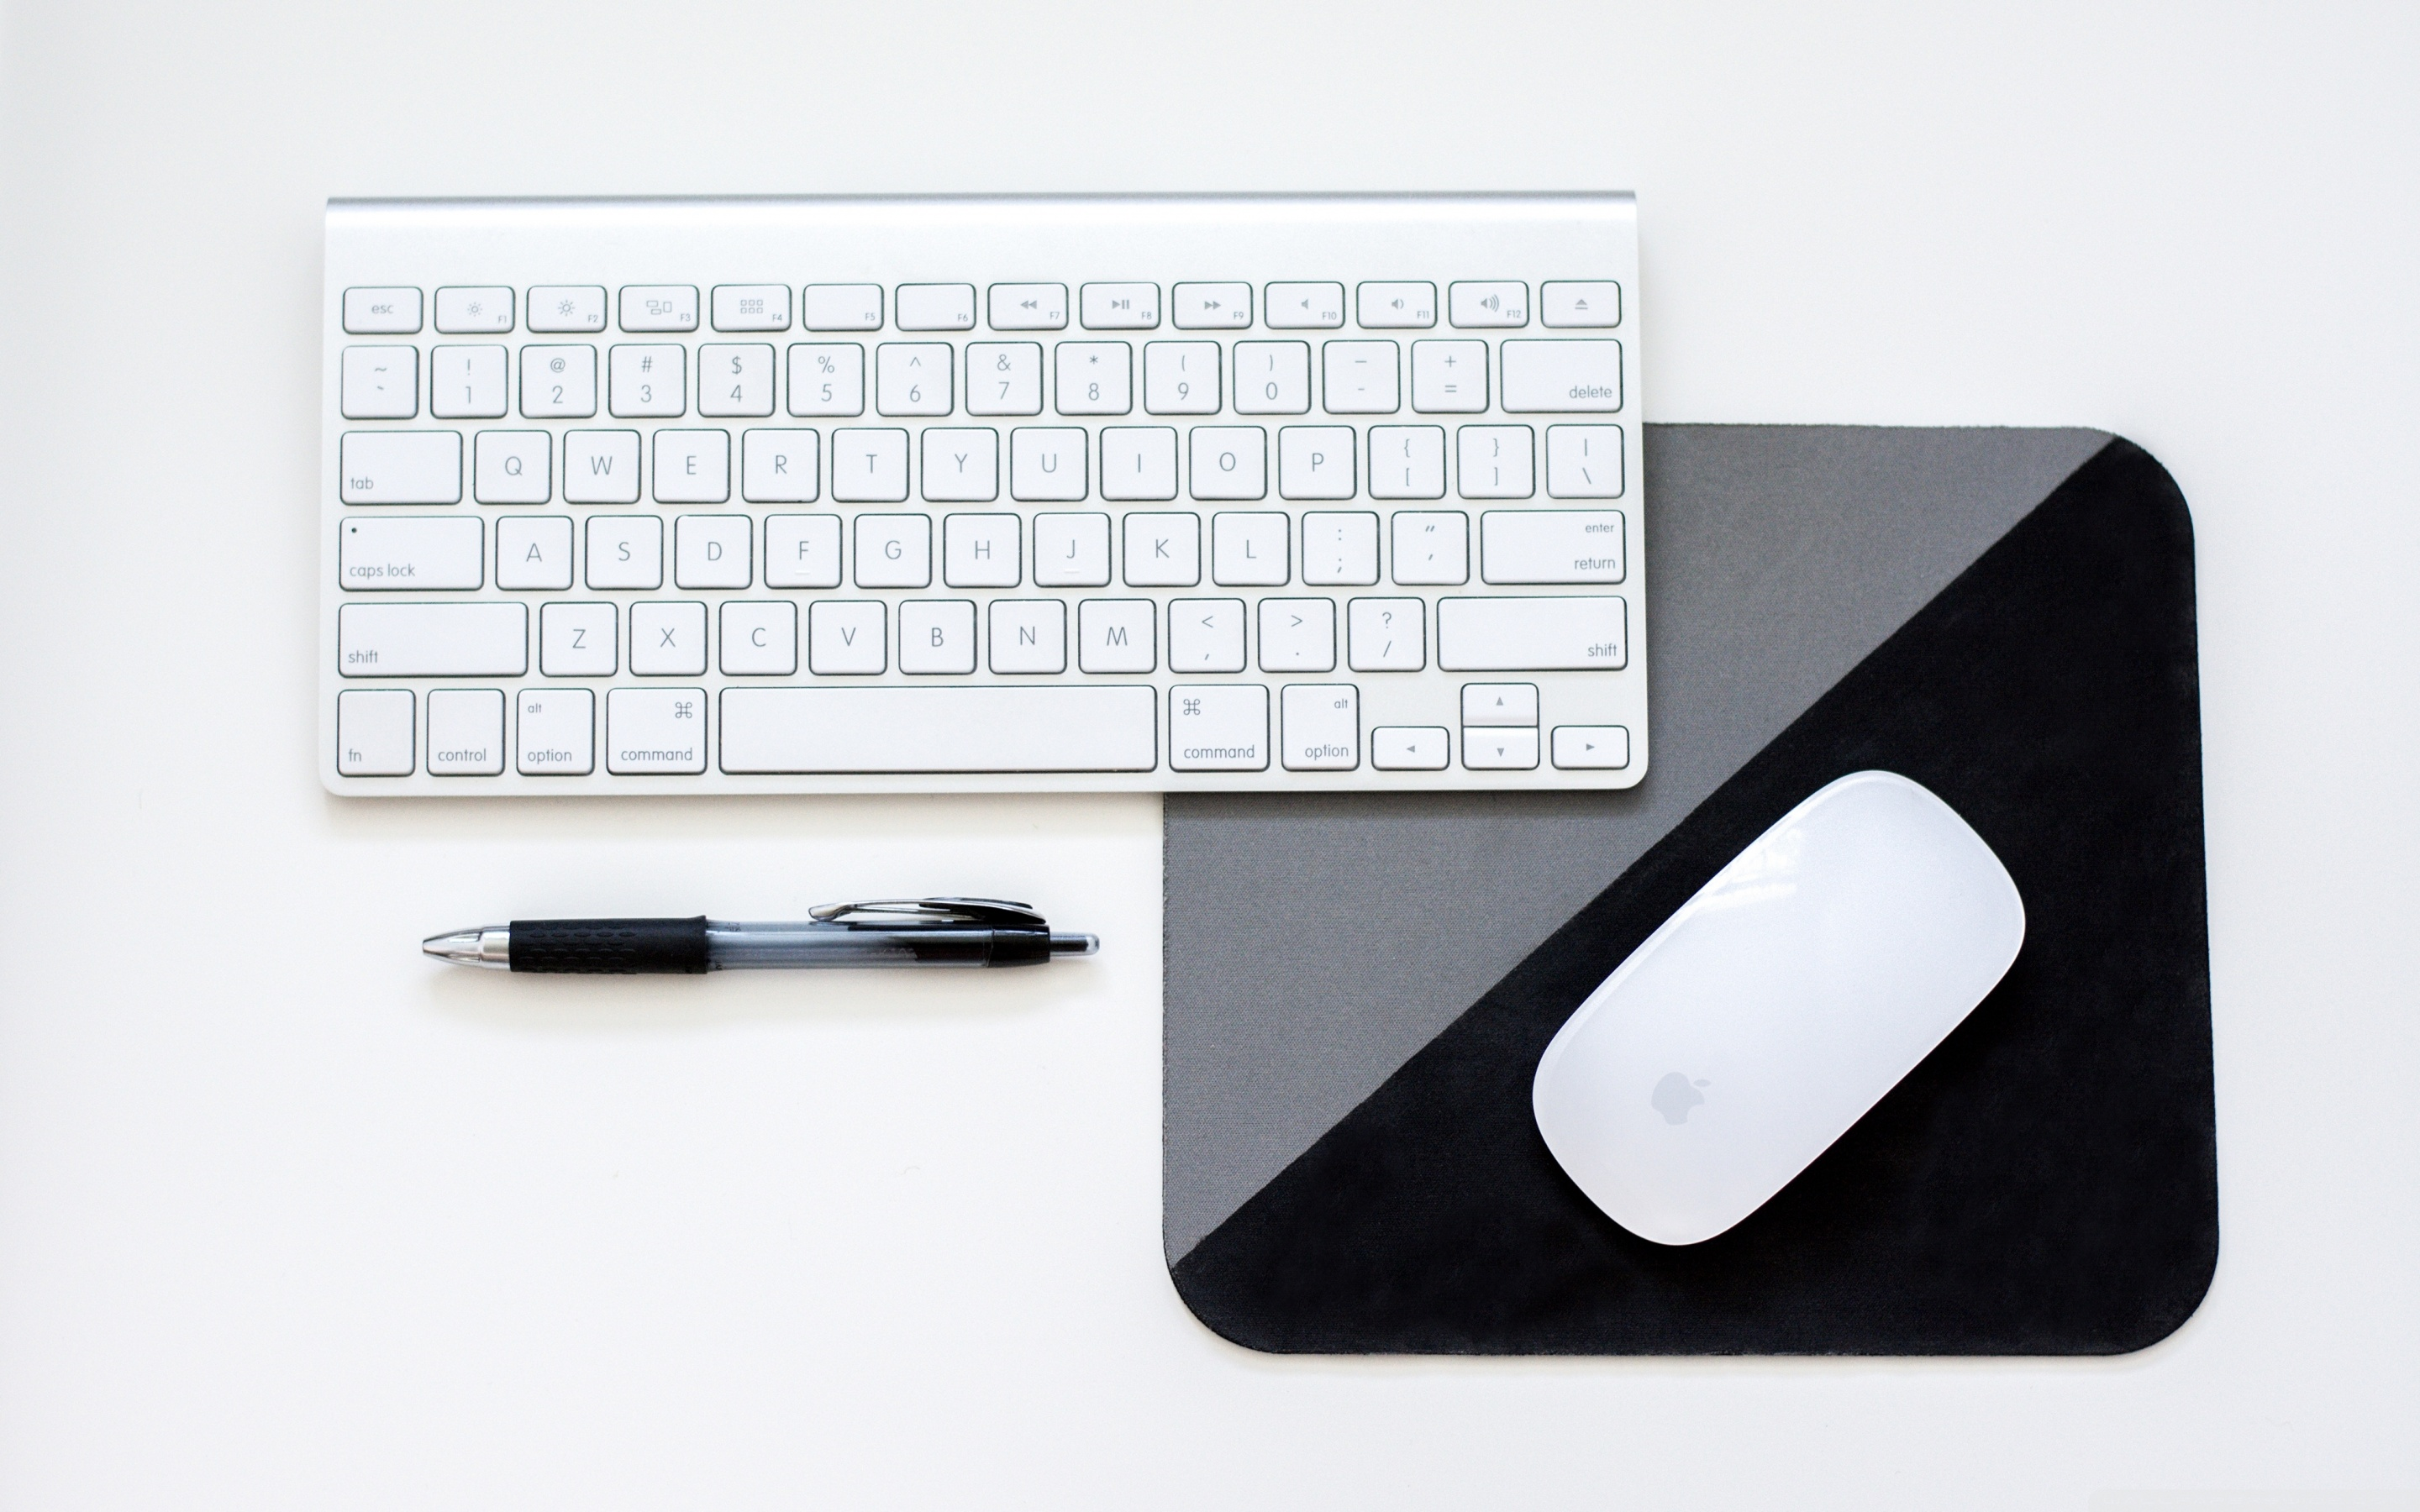keyboard: (335, 218, 1636, 784)
mouse: (1530, 798, 2033, 1252)
